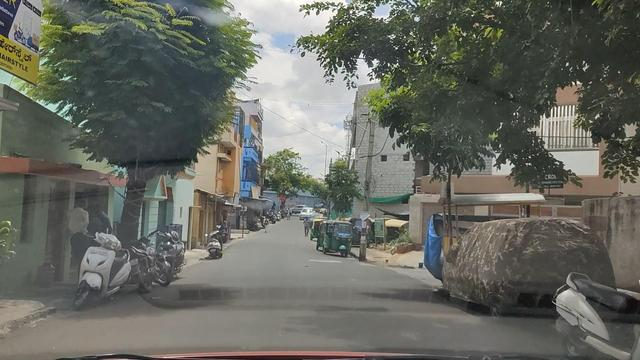LMV: (314, 221, 354, 260)
